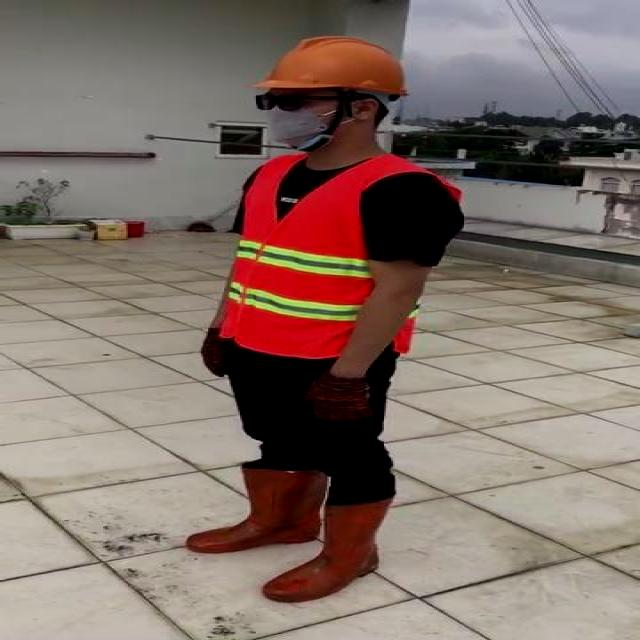boots: (263, 495, 397, 604), (183, 466, 327, 552)
face_mask: (248, 86, 342, 152)
glasses: (250, 85, 324, 117)
hand_glove: (302, 373, 373, 425)
head_helmet: (249, 34, 421, 98)
person: (167, 32, 478, 620)
vest: (220, 153, 457, 356)
